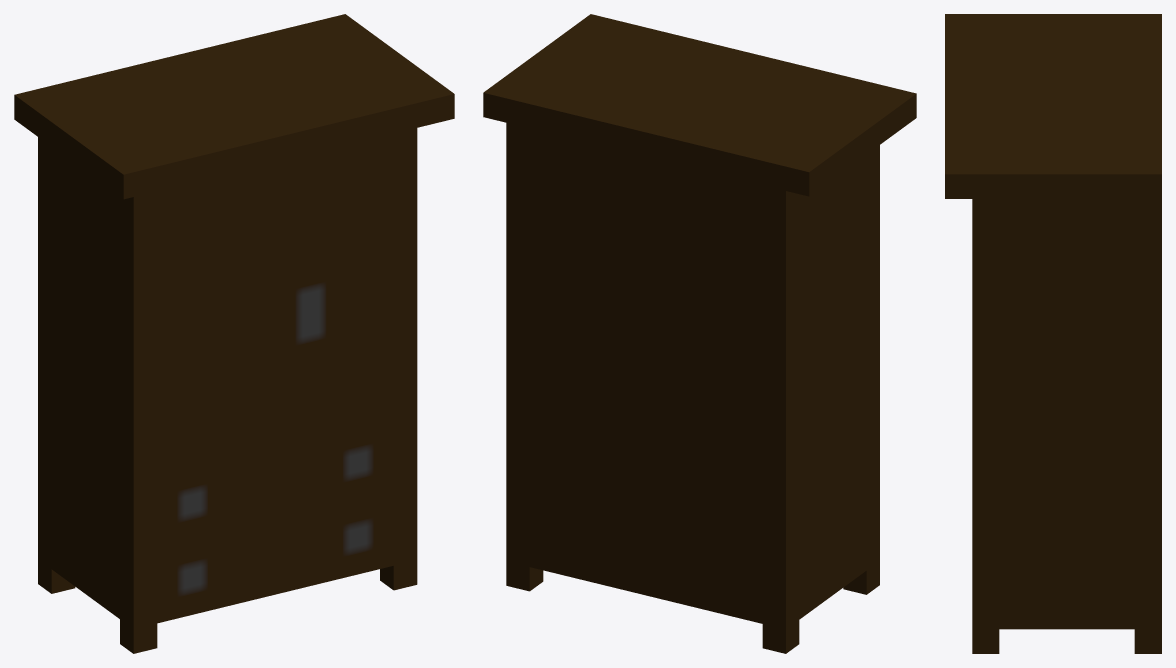
Rendered from closet2.obj.
3 renders of one model, left to right at view 1: azimuth 30°, elevation 25°; view 2: azimuth 150°, elevation 25°; view 3: azimuth 270°, elevation 25°, orthographic.
Parts seen in each view (by area): view 1: closet2; view 2: closet2; view 3: closet2.
Part boxes in pixels (bbox=[...]): closet2: bbox=[14, 14, 454, 653]; closet2: bbox=[483, 14, 916, 653]; closet2: bbox=[945, 14, 1161, 653].
Bounding box in the file's own units: 14 × 20 × 8.
